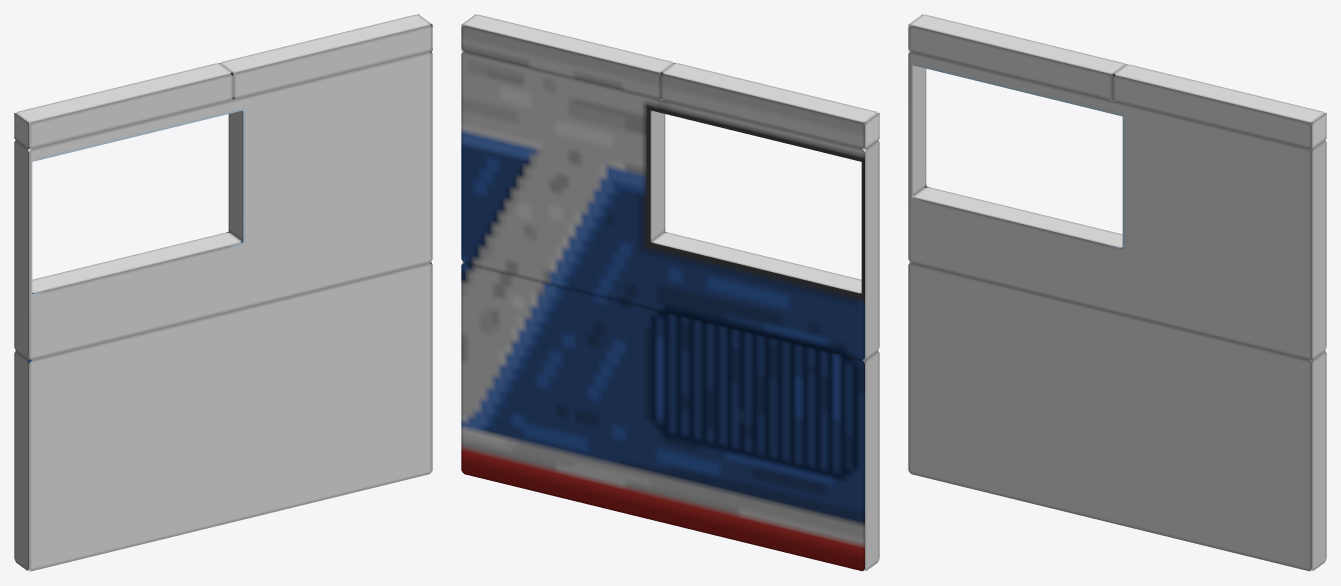
Rendered from df4d_left_board_b.obj.
3 renders of one model, left to right at view 1: azimuth 30°, elevation 25°; view 2: azimuth 150°, elevation 25°; view 3: azimuth 330°, elevation 25°, orthographic.
Visible parts, largest first — view 1: df4d_left_broad_b; view 2: df4d_left_broad_b; view 3: df4d_left_broad_b.
Part boxes in pixels (x1=…): df4d_left_broad_b: x1=14, y1=14, x2=432, y2=571; df4d_left_broad_b: x1=461, y1=14, x2=879, y2=571; df4d_left_broad_b: x1=908, y1=14, x2=1326, y2=571.
Size of the model in its own units: 2 by 2.12 by 0.1258.
